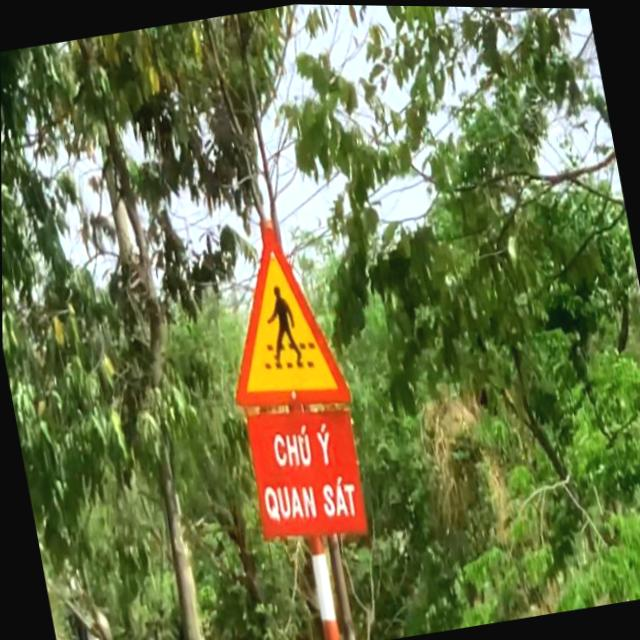Nguoi di bo cat ngang: (202, 213, 353, 424)
